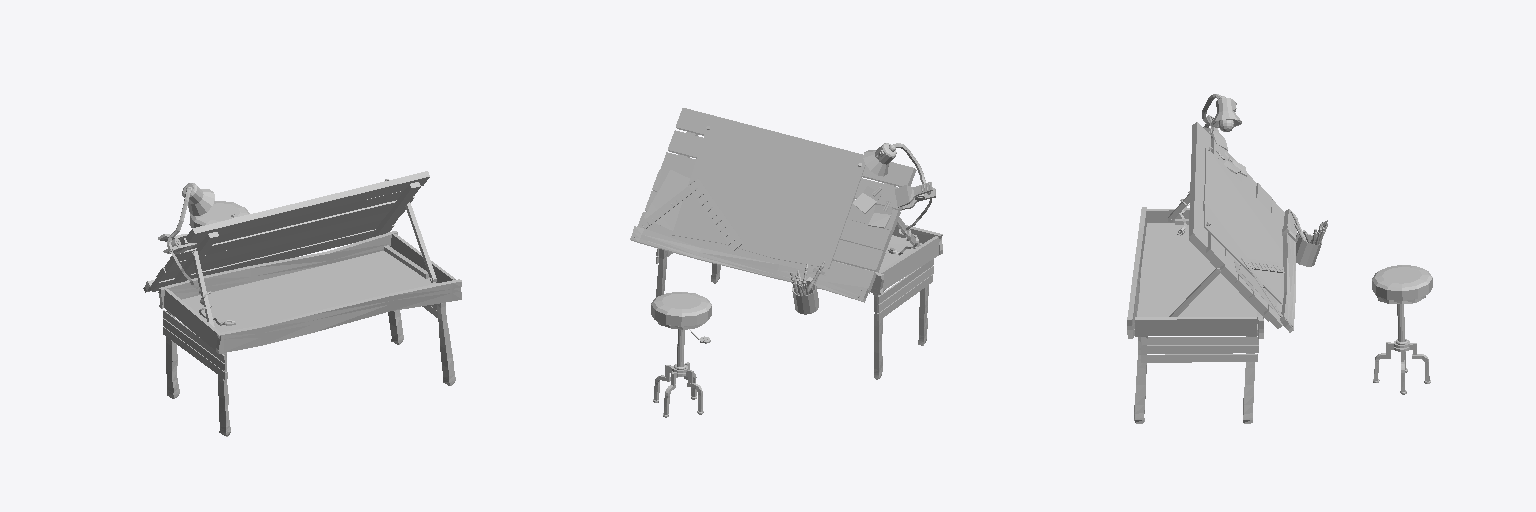
Rendered from draft_table.obj.
The picture shows the model from 3 angles: view 1: azimuth 30°, elevation 25°; view 2: azimuth 150°, elevation 25°; view 3: azimuth 270°, elevation 25°; orthographic projection.
Visible parts, largest first — view 1: group[number redacted], group[number redacted], group[number redacted], group[number redacted], group[number redacted], group[number redacted], group[number redacted], group[number redacted], group[number redacted], group[number redacted], group[number redacted], group[number redacted]; view 2: group[number redacted], group[number redacted], group[number redacted], group[number redacted], group[number redacted], group[number redacted], group[number redacted], group[number redacted], group[number redacted], group[number redacted]; view 3: group[number redacted], group[number redacted], group[number redacted], group[number redacted], group[number redacted], group[number redacted], group[number redacted], group[number redacted], group[number redacted], group[number redacted], group[number redacted], group[number redacted] (+2 smaller).
Part boxes in pixels (x1,y1,x2,y2): group[number redacted]: (150, 171, 429, 291); group[number redacted]: (182, 251, 436, 332); group[number redacted]: (216, 279, 461, 353); group[number redacted]: (158, 231, 397, 308); group[number redacted]: (158, 183, 235, 325); group[number redacted]: (164, 289, 223, 353); group[number redacted]: (437, 303, 455, 385); group[number redacted]: (189, 201, 249, 227); group[number redacted]: (390, 234, 455, 282); group[number redacted]: (166, 311, 179, 398); group[number redacted]: (218, 353, 230, 436); group[number redacted]: (163, 318, 225, 371); group[number redacted]: (672, 127, 865, 268); group[number redacted]: (637, 108, 916, 293); group[number redacted]: (651, 292, 711, 417); group[number redacted]: (630, 226, 868, 302); group[number redacted]: (863, 143, 935, 255); group[number redacted]: (879, 236, 941, 290); group[number redacted]: (644, 170, 689, 230); group[number redacted]: (688, 178, 742, 250); group[number redacted]: (790, 261, 824, 314); group[number redacted]: (873, 289, 885, 379); group[number redacted]: (1134, 223, 1257, 332); group[number redacted]: (1203, 147, 1282, 303); group[number redacted]: (1189, 122, 1284, 328); group[number redacted]: (1372, 265, 1432, 394); group[number redacted]: (1135, 317, 1256, 336); group[number redacted]: (1280, 209, 1297, 332); group[number redacted]: (1177, 94, 1241, 235); group[number redacted]: (1282, 211, 1327, 266); group[number redacted]: (1127, 207, 1146, 338); group[number redacted]: (1141, 345, 1258, 353); group[number redacted]: (1141, 354, 1257, 362); group[number redacted]: (1141, 337, 1258, 344).
Size of the model in its own units: 5.69 by 4.72 by 5.75.